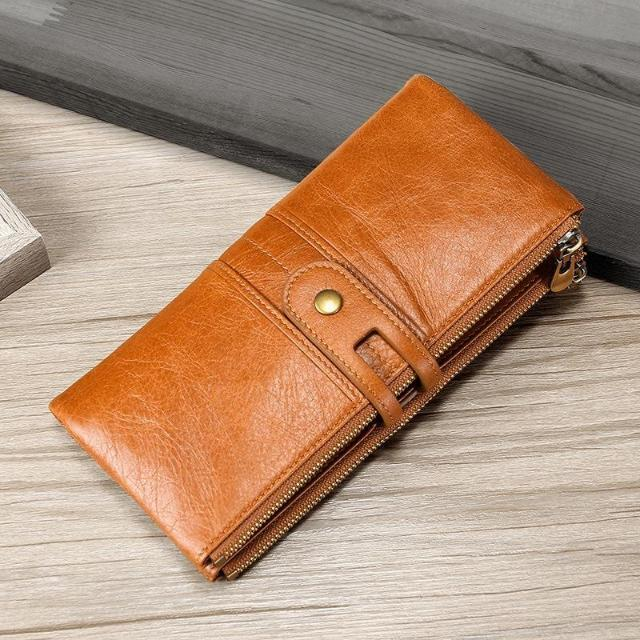wallet: (45, 70, 598, 586)
